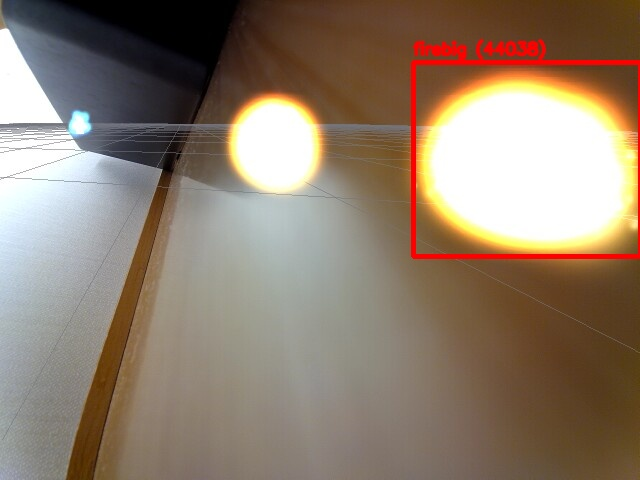firebig: (413, 62, 640, 256)
